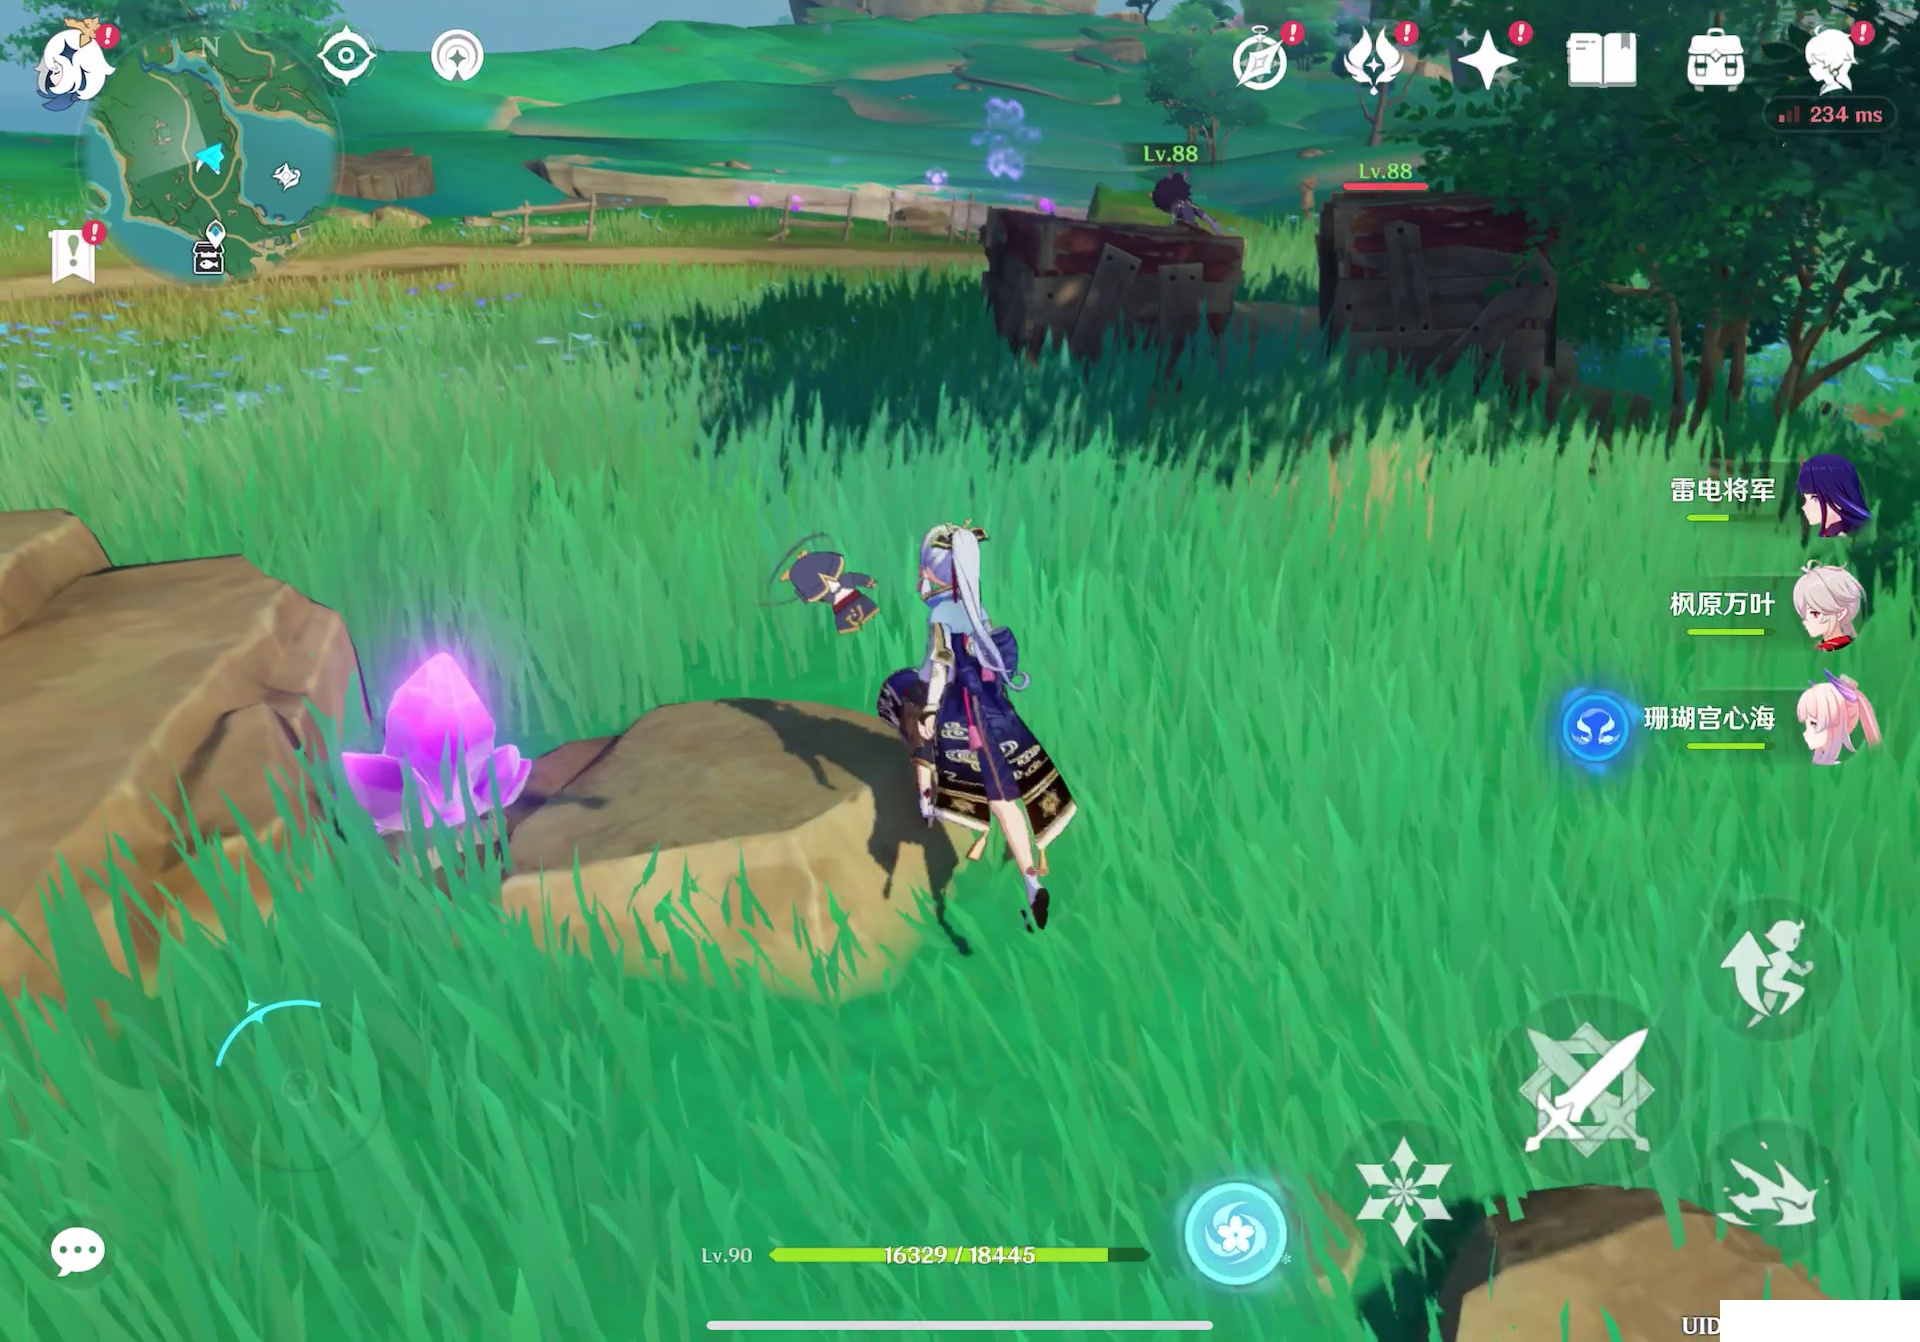丘丘人: (1142, 166, 1215, 228)
神里绫龟: (891, 516, 1102, 947)
紫矿石: (360, 649, 533, 831)
